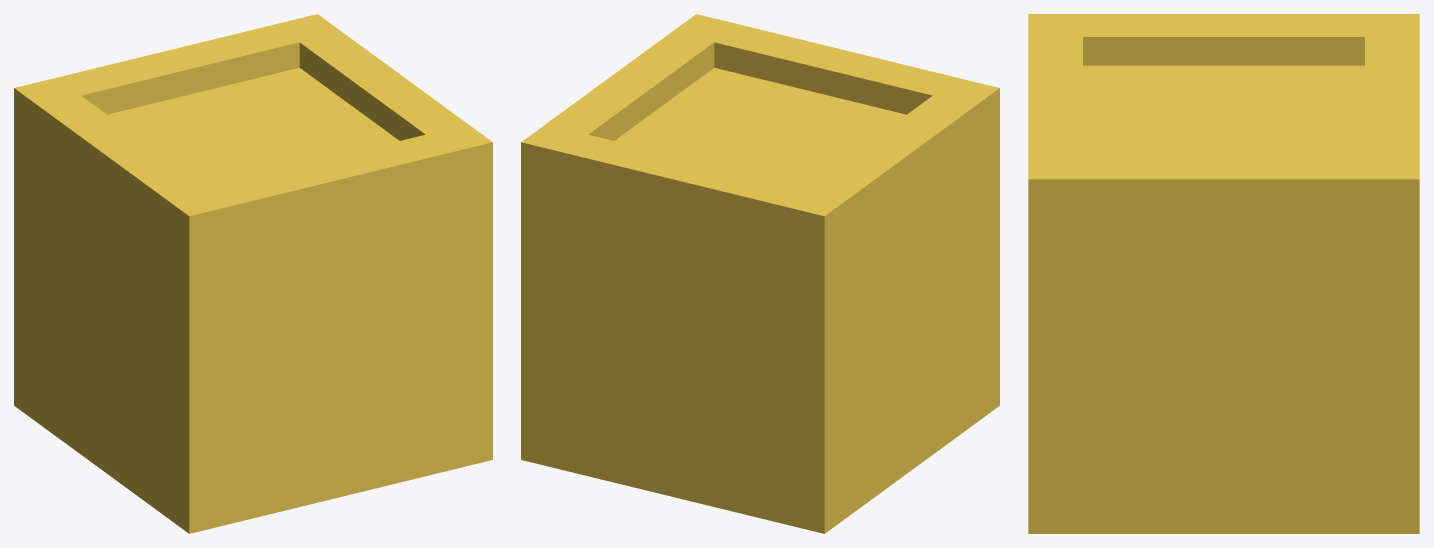
Rendered from crate.glb.
3 views of the same model, side by side, from view 1: azimuth 30°, elevation 25°; view 2: azimuth 150°, elevation 25°; view 3: azimuth 270°, elevation 25° (orthographic). The views are drawn at different scales.
Parts seen in each view (by area): view 1: Crate; view 2: Crate; view 3: Crate.
Boxes of the visible parts, x1=… form: Crate: x1=14, y1=14, x2=492, y2=533; Crate: x1=521, y1=14, x2=999, y2=533; Crate: x1=1028, y1=14, x2=1419, y2=533.
Bounding box in the file's own units: 0.5 × 0.5 × 0.5.
